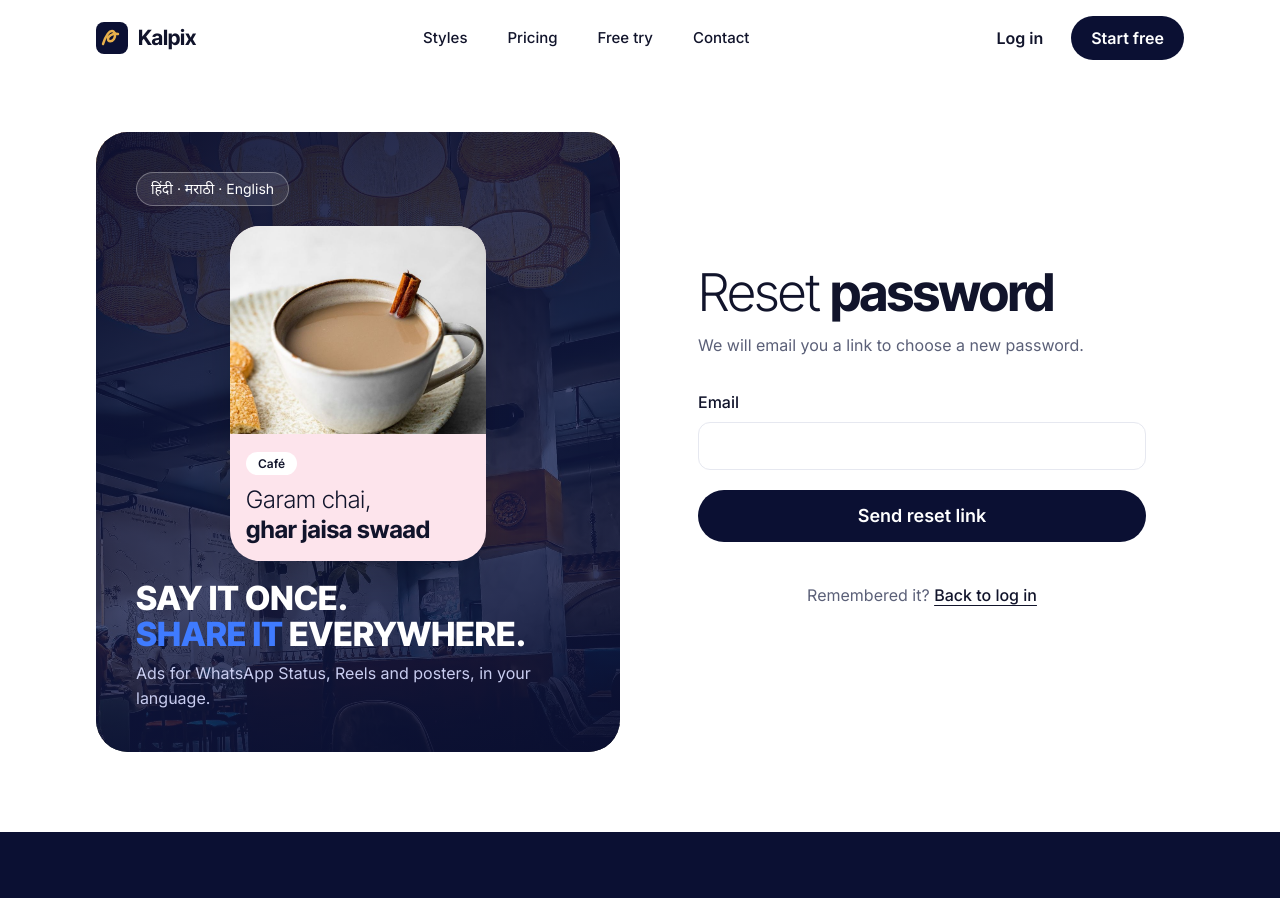
Test: forgot password › shows the same message whether or not the account exists
Type "nobody@example.com" into the field labelled "Email" at (922,446), box [698,422,1146,470]
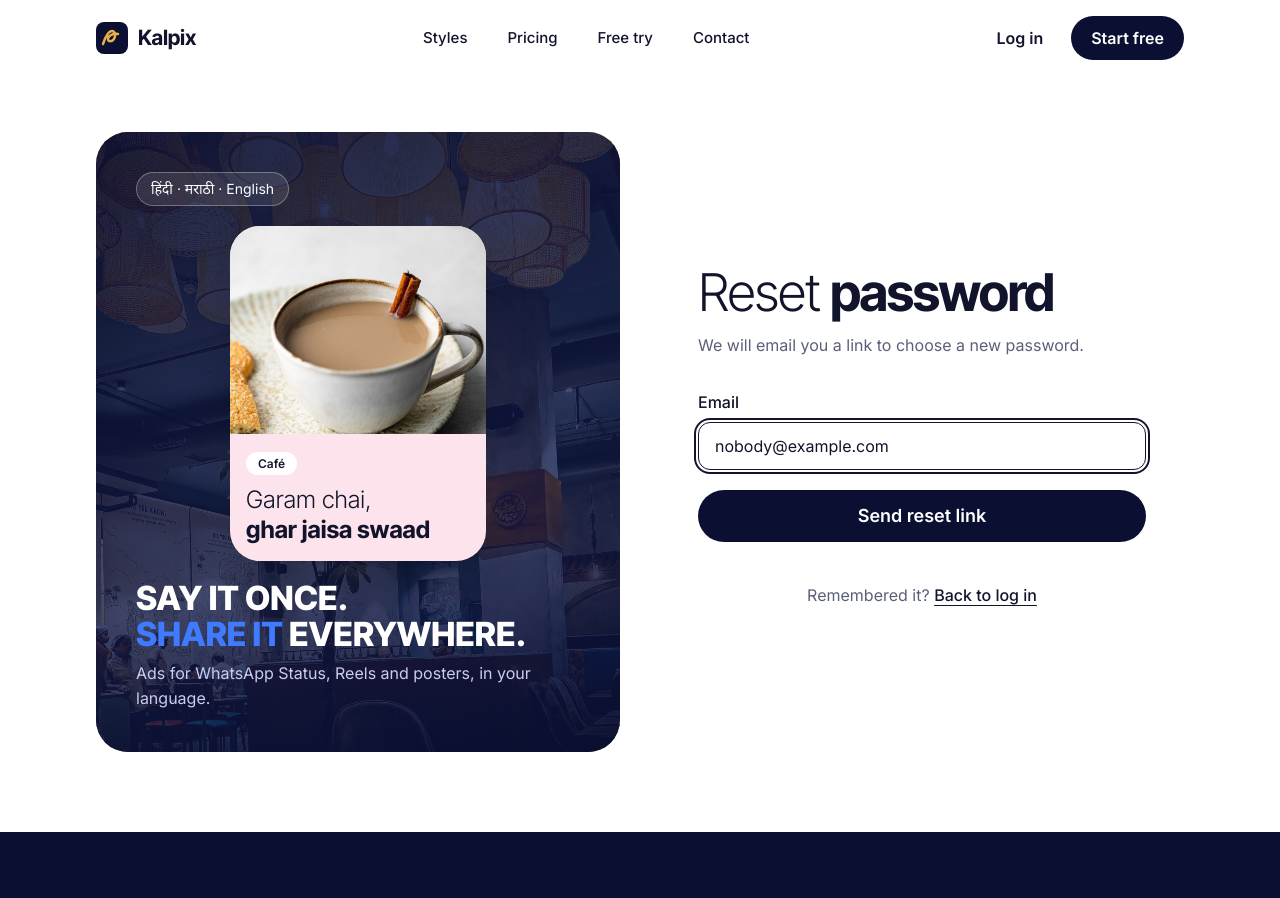
Click the button "Send reset link" at (922,516), box [698,490,1146,542]
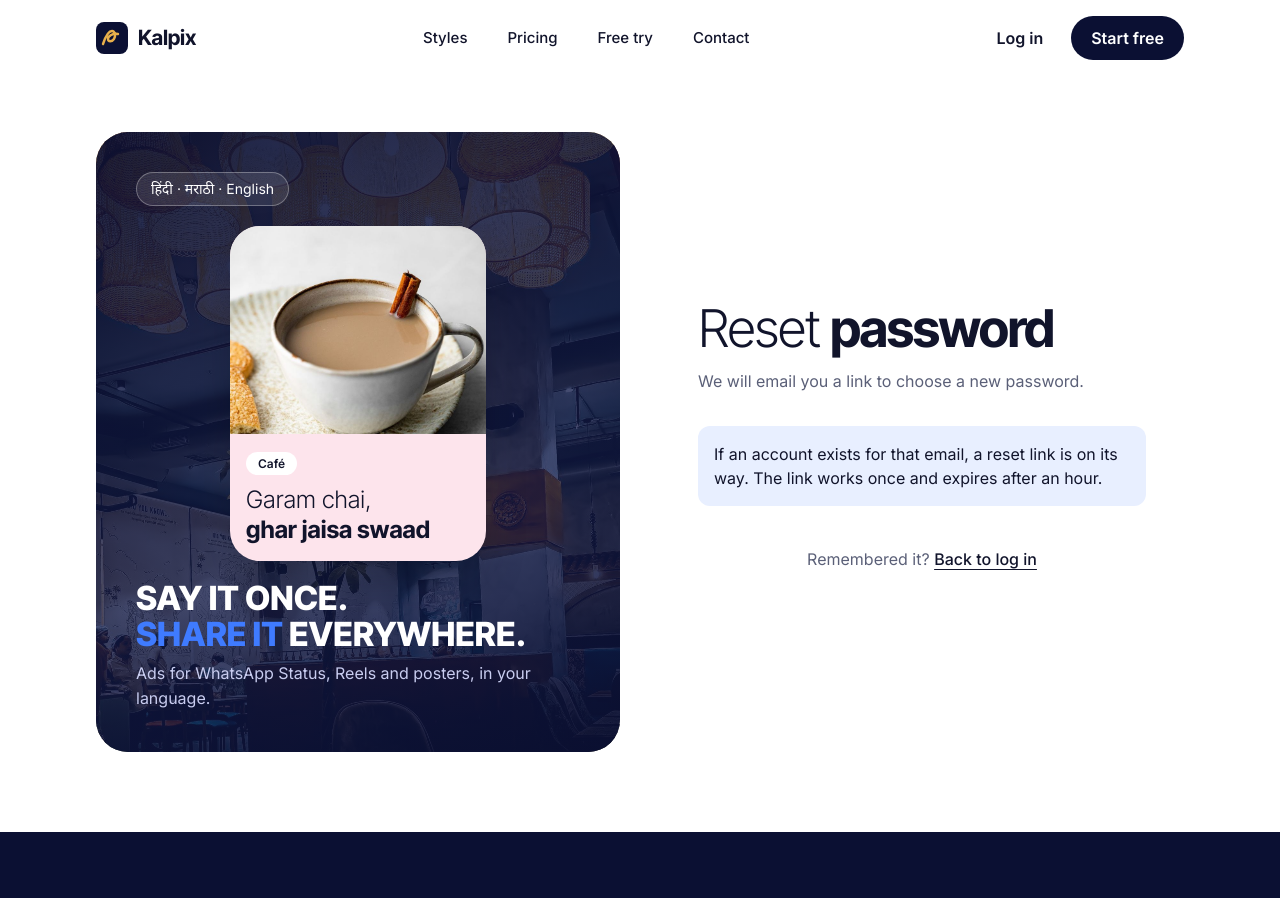
Expected: the message shows "If an account exists", [714,444,1118,488]
